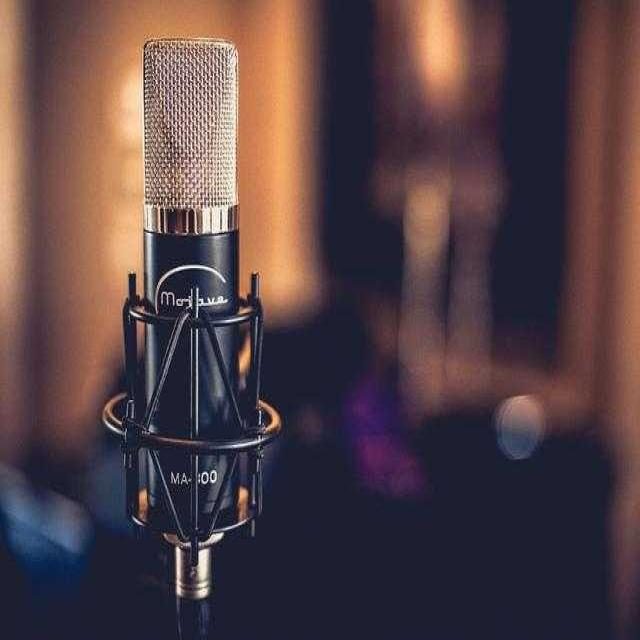microphone: (139, 38, 243, 533)
